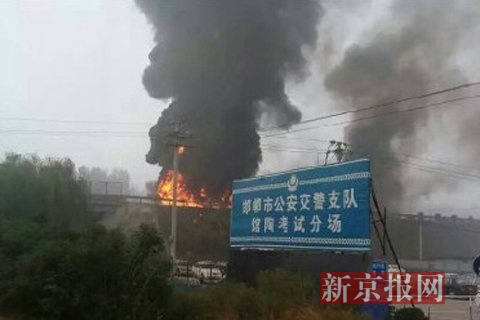fire: (152, 168, 239, 216)
smoke: (145, 5, 478, 152)
